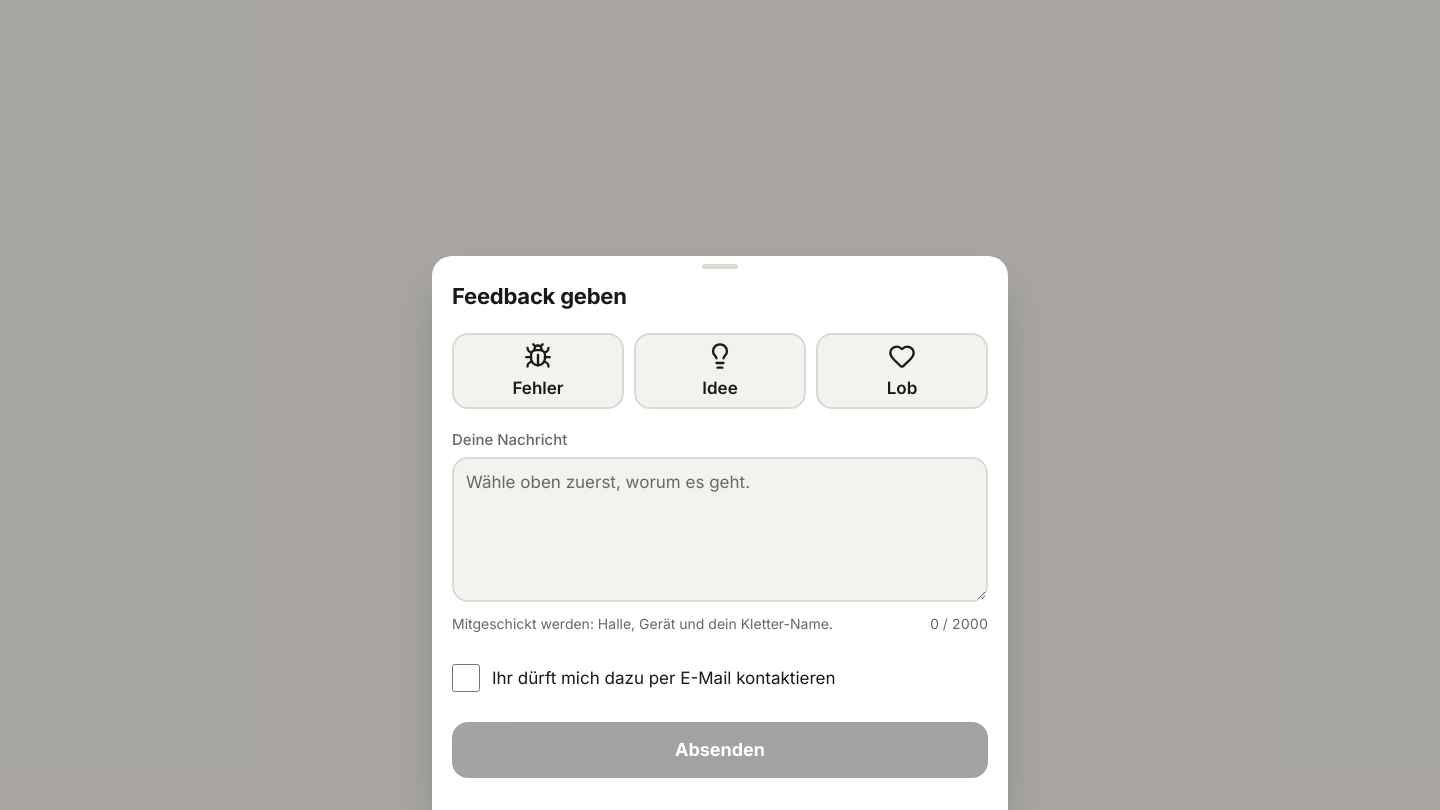
Test: SPEC-026 FeedbackSheet › Platzhalter passt zur Art, Zähler, Hinweis und Häkchen aus (AC-3, AC-5, AC-6)
The width and height of the screenshot is (1440, 810).
Click the radio button with test id "feedback-category-bug" at (538,371), box [452,333,624,409]
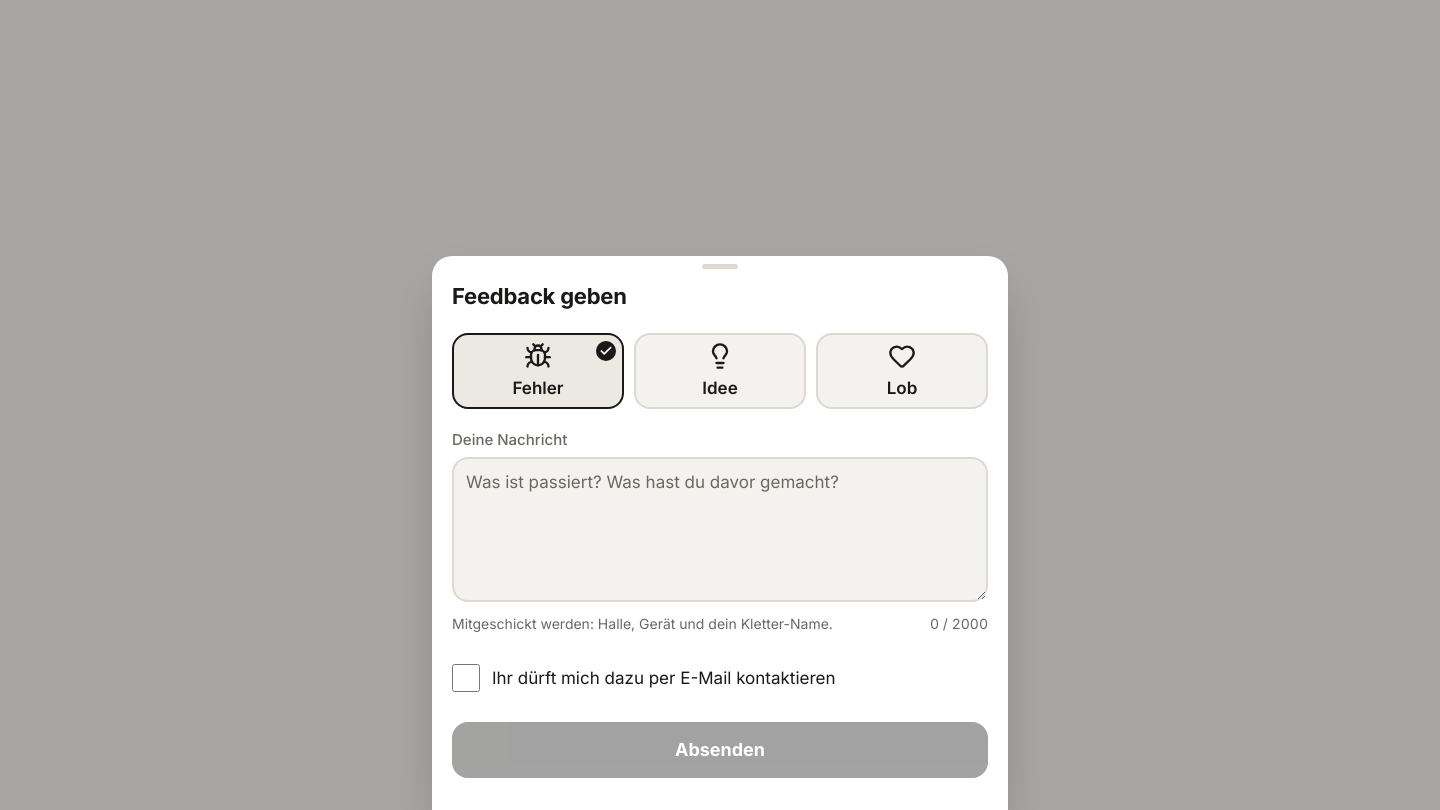
Expected: the text box with test id "feedback-message" has attribute placeholder="Was ist passiert? Was hast du davor gemacht?", [452,457,988,602]
Click the radio button with test id "feedback-category-idea" at (720,371), box [634,333,806,409]
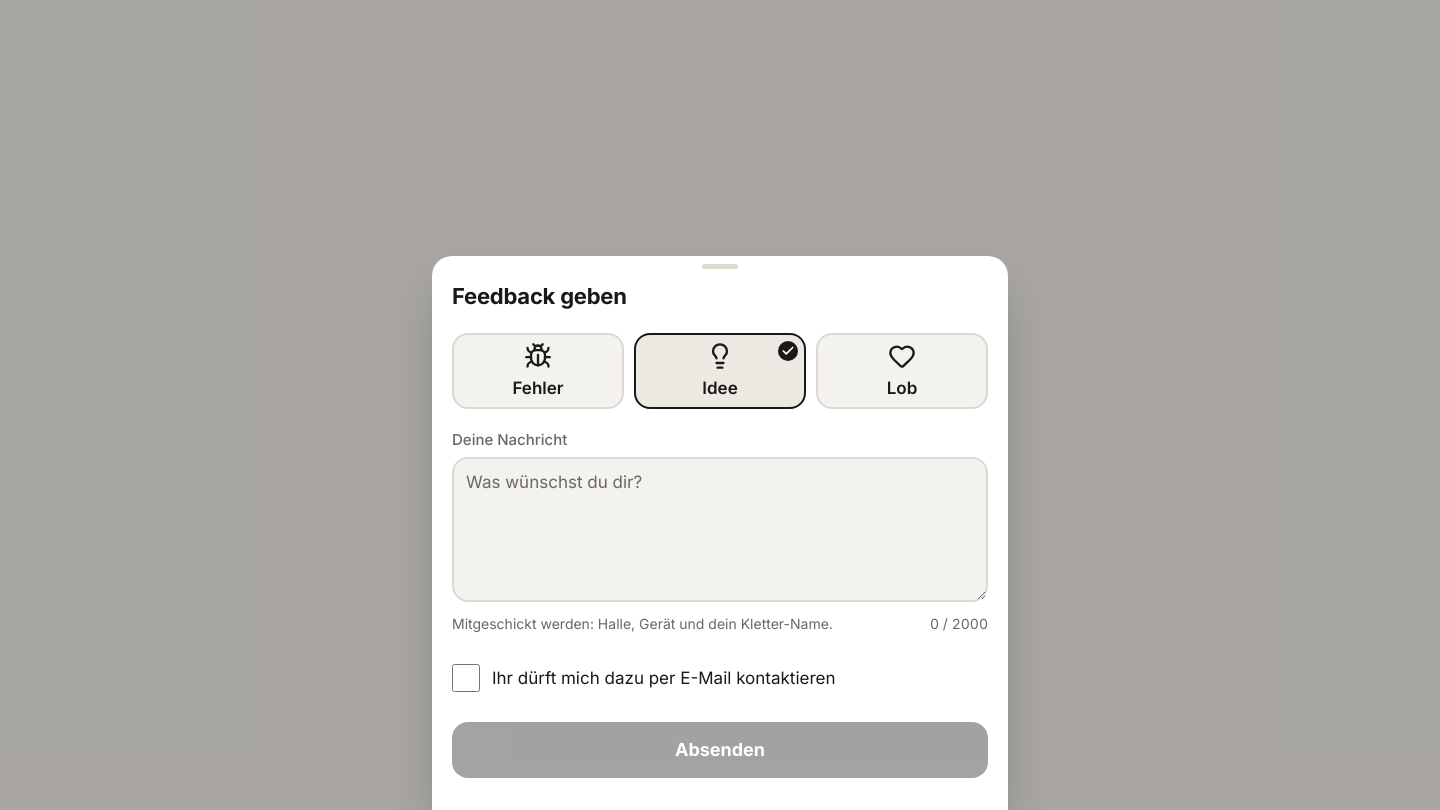
Expected: the text box with test id "feedback-message" has attribute placeholder="Was wünschst du dir?"
Type "Hallo" into the text box with test id "feedback-message" at (720,529), box [452,457,988,602]
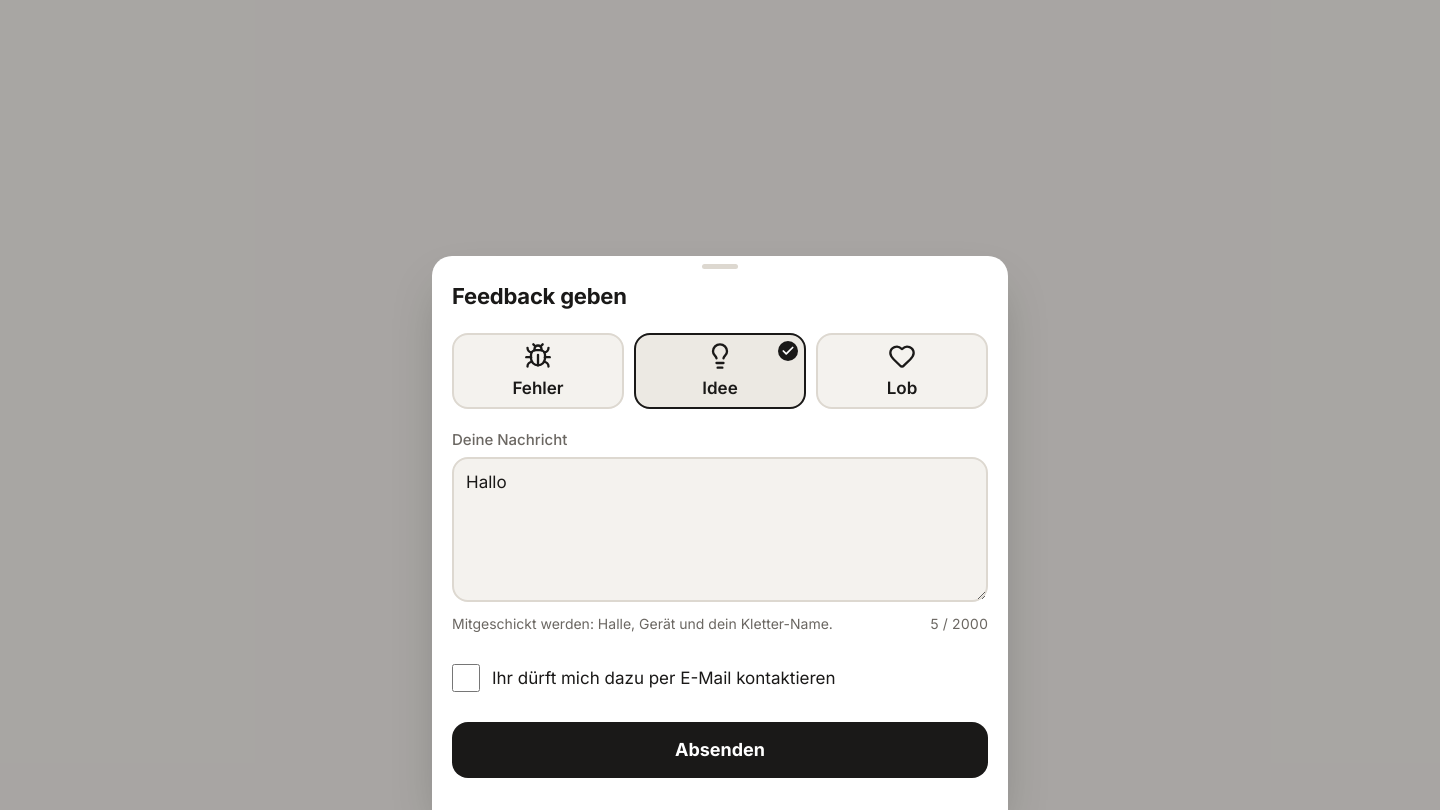
Expected: the text with test id "feedback-context-note" reads "Mitgeschickt werden: Halle, Gerät und dein Kletter-Name.", [452,615,833,632]
Expected: the text with test id "feedback-counter" reads "5 / 2000", [930,614,988,634]
